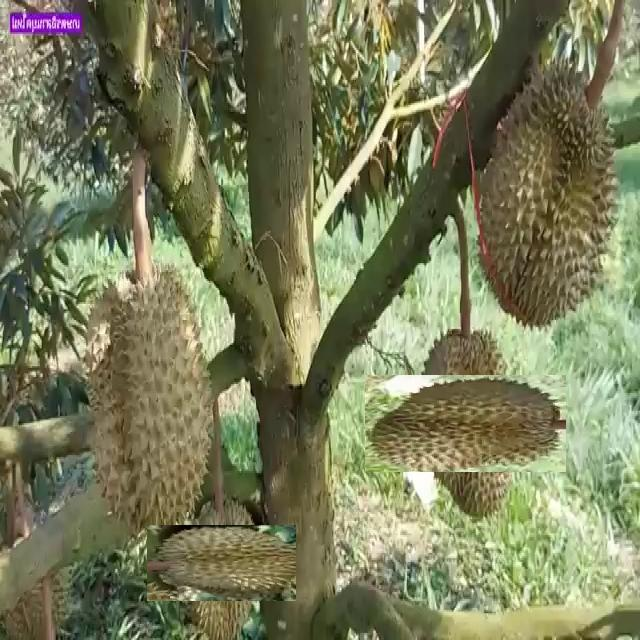durian: (470, 53, 625, 337), (81, 261, 219, 544), (390, 349, 540, 498), (165, 507, 279, 620)
